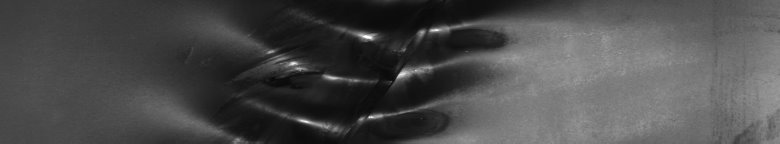ke: (184, 10, 517, 136)
